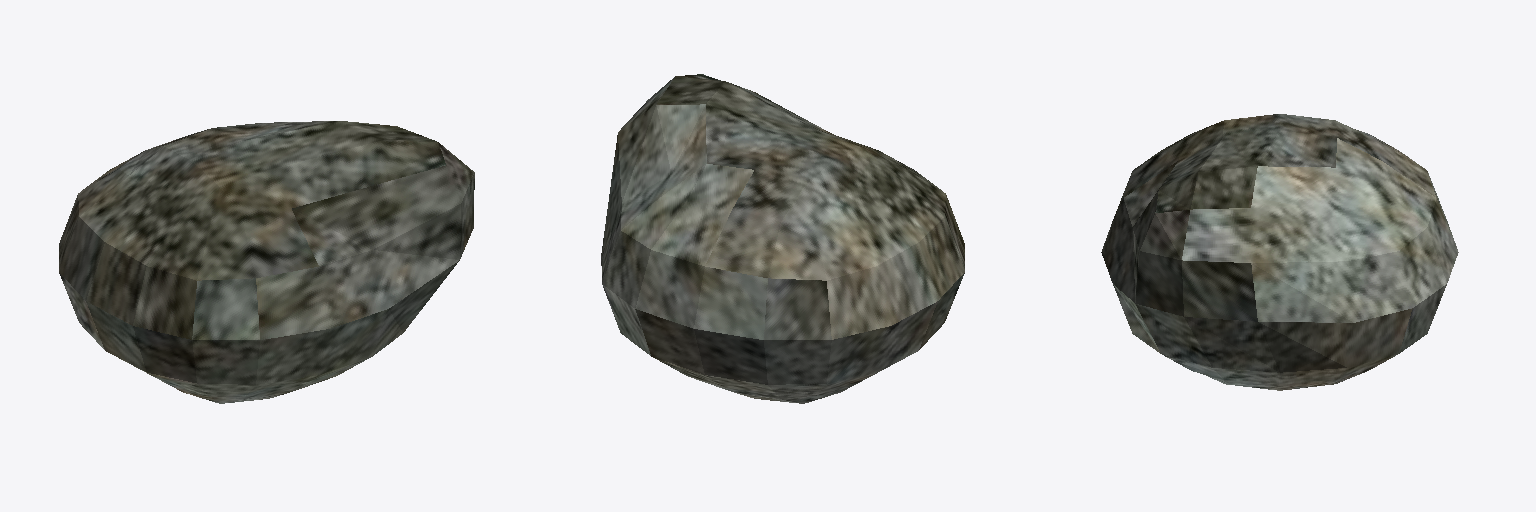
3 renders of one model, left to right at view 1: azimuth 30°, elevation 25°; view 2: azimuth 150°, elevation 25°; view 3: azimuth 270°, elevation 25°, orthographic.
Visible parts, largest first — view 1: asteroid6_Cube; view 2: asteroid6_Cube; view 3: asteroid6_Cube.
Part boxes in pixels (x1,y1,x2,y2): asteroid6_Cube: (59, 121, 474, 403); asteroid6_Cube: (601, 74, 964, 403); asteroid6_Cube: (1101, 114, 1458, 390).
Size of the model in its own units: 4.18 by 2.95 by 3.8.
1 materials, 1 textured.